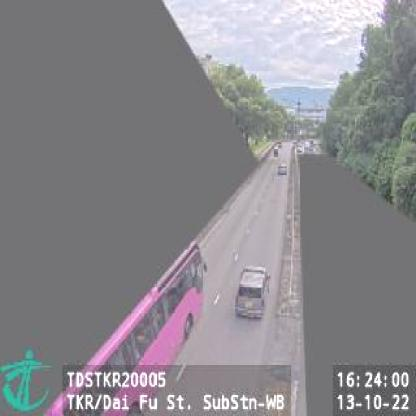Car: (234, 262, 270, 322), (276, 164, 287, 176)
